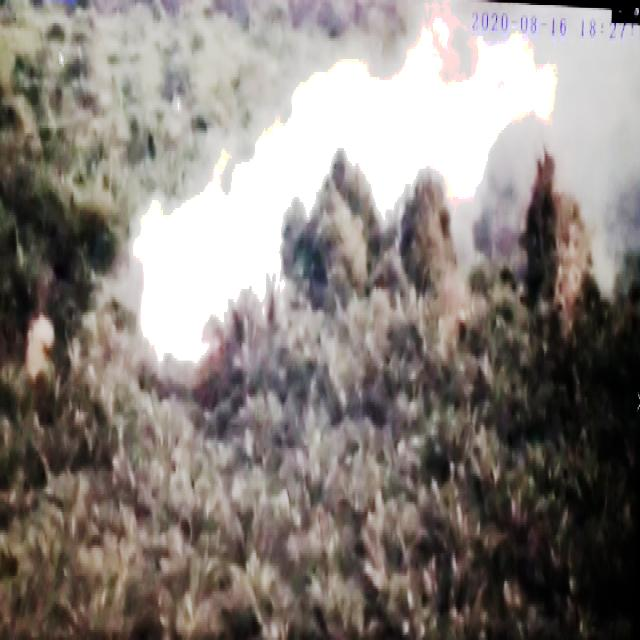asap: (128, 47, 639, 388)
